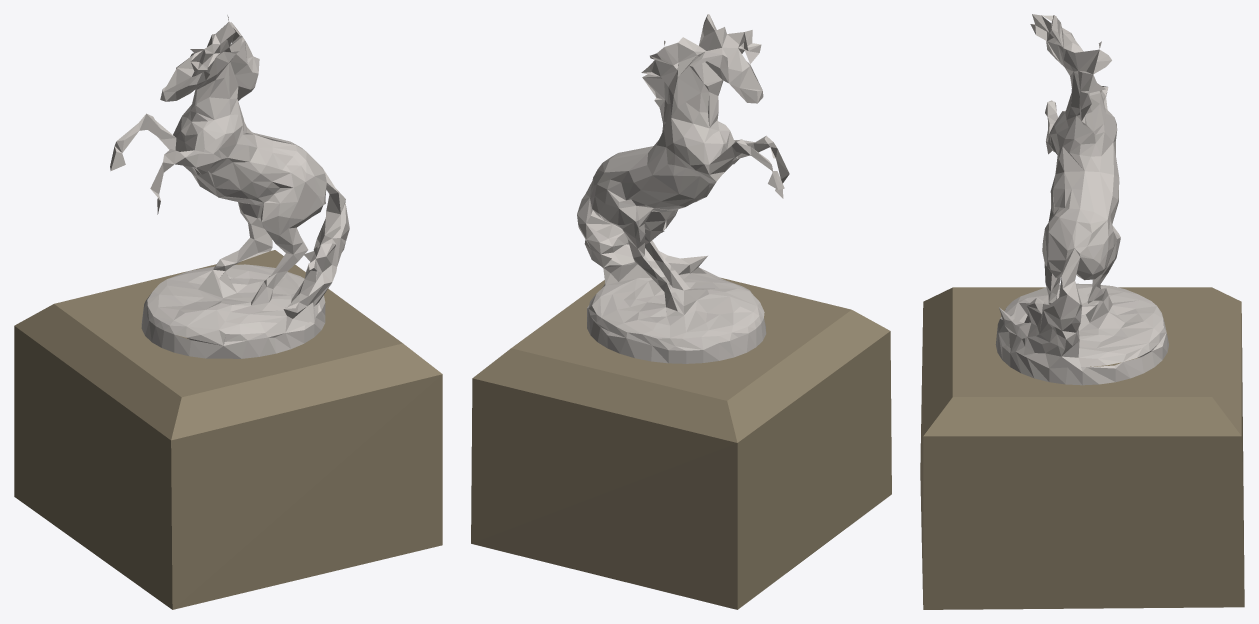
The model's file is statue-horse-lod1.glb.
The picture shows the model from 3 angles, left to right: view 1: azimuth 30°, elevation 25°; view 2: azimuth 150°, elevation 25°; view 3: azimuth 270°, elevation 25°; orthographic projection. The views are drawn at different scales.
Bounding box in the file's own units: 2.16 × 3.9 × 2.2.
